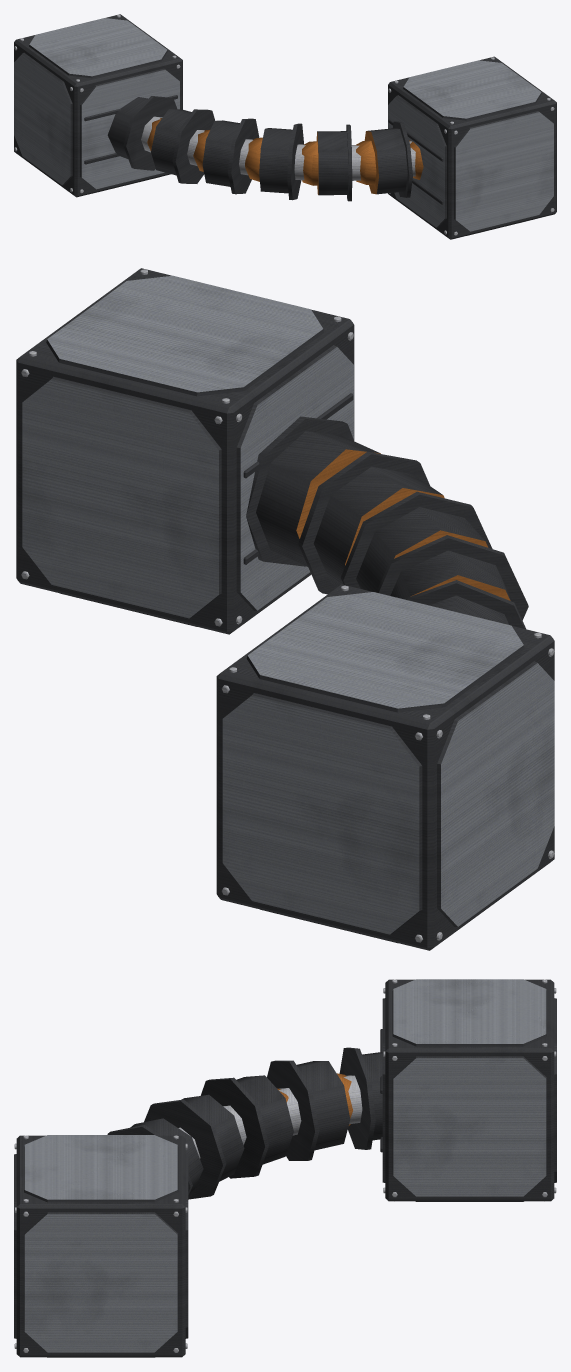
File: R4C_STRUT_ARC.glb
The picture shows the model from 3 angles, top to bottom: view 1: azimuth 30°, elevation 25°; view 2: azimuth 150°, elevation 25°; view 3: azimuth 270°, elevation 25°; orthographic projection. The views are drawn at different scales.
Parts seen in each view (by area): view 1: R4C_STRUT_ARC; view 2: R4C_STRUT_ARC; view 3: R4C_STRUT_ARC.
Part boxes in pixels (x1,y1,x2,y2): R4C_STRUT_ARC: (14, 14, 556, 239); R4C_STRUT_ARC: (16, 268, 554, 950); R4C_STRUT_ARC: (14, 979, 556, 1357).
Bounding box in the file's own units: 1.62 × 0.52 × 1.62.
Materials: 4 (4 with a texture image).
